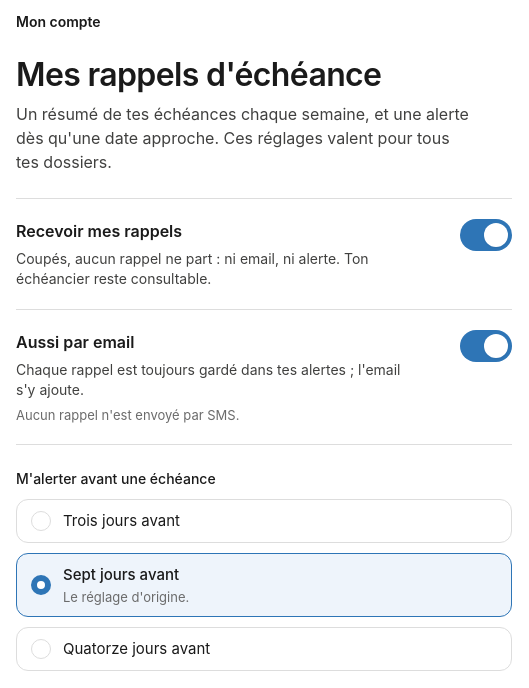
Test: Préférences de rappel › recalcule la phrase avant l'enregistrement, et coupe l'email avec les rappels
Click the switch in the row of "Recevoir mes rappels" at x=486, y=235, box [460,219,512,251]
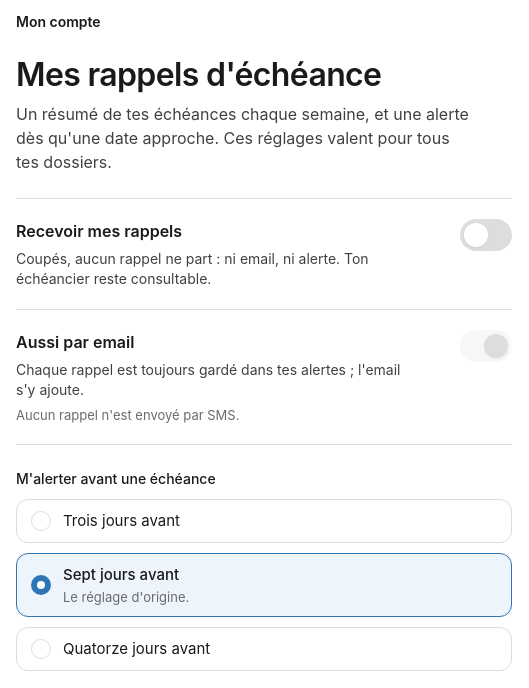
Result: the switch in the row of "Aussi par email" is disabled at [460,330,512,362]
